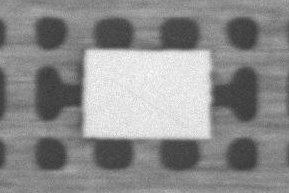DIE_CRACK: (166, 53, 277, 84)
